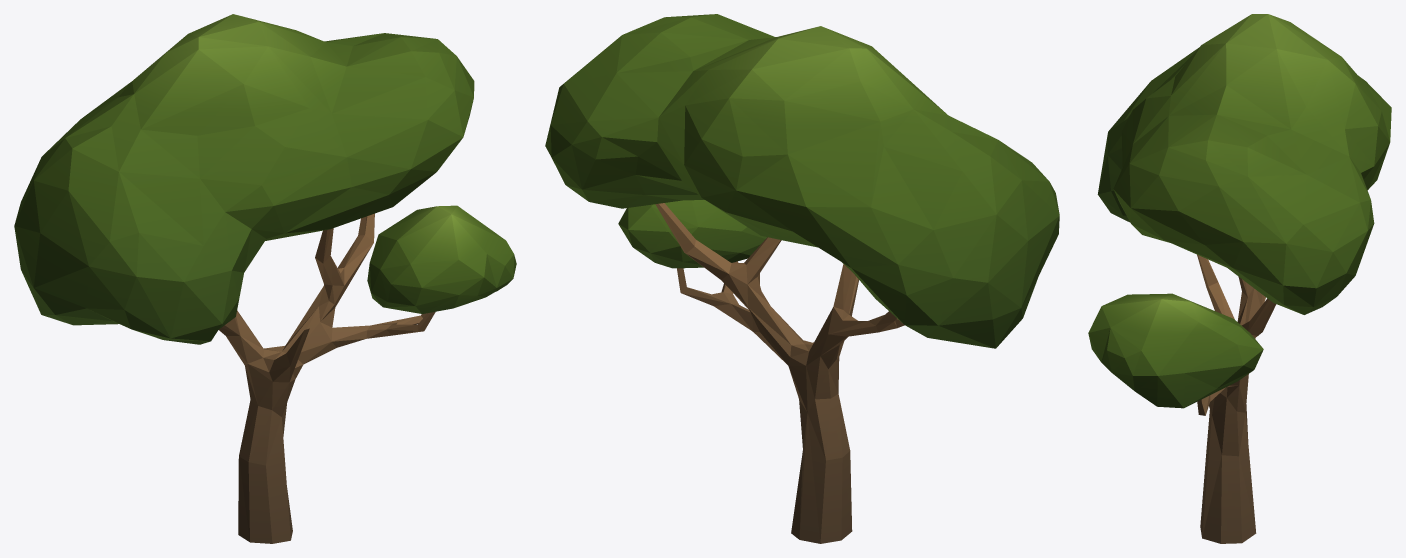
File: Mesh_Nature_Tree_03.FBX
3 views of the same model, side by side, from view 1: azimuth 30°, elevation 25°; view 2: azimuth 150°, elevation 25°; view 3: azimuth 270°, elevation 25° (orthographic). The views are drawn at different scales.
Visible parts, largest first — view 1: Mesh_Nature_Tree_03; view 2: Mesh_Nature_Tree_03; view 3: Mesh_Nature_Tree_03.
Boxes of the visible parts, box(x1,y1,x2,y2) form: Mesh_Nature_Tree_03: box(14, 14, 516, 543); Mesh_Nature_Tree_03: box(545, 14, 1059, 543); Mesh_Nature_Tree_03: box(1088, 14, 1391, 543).
Bounding box in the file's own units: 213 × 228 × 126.
